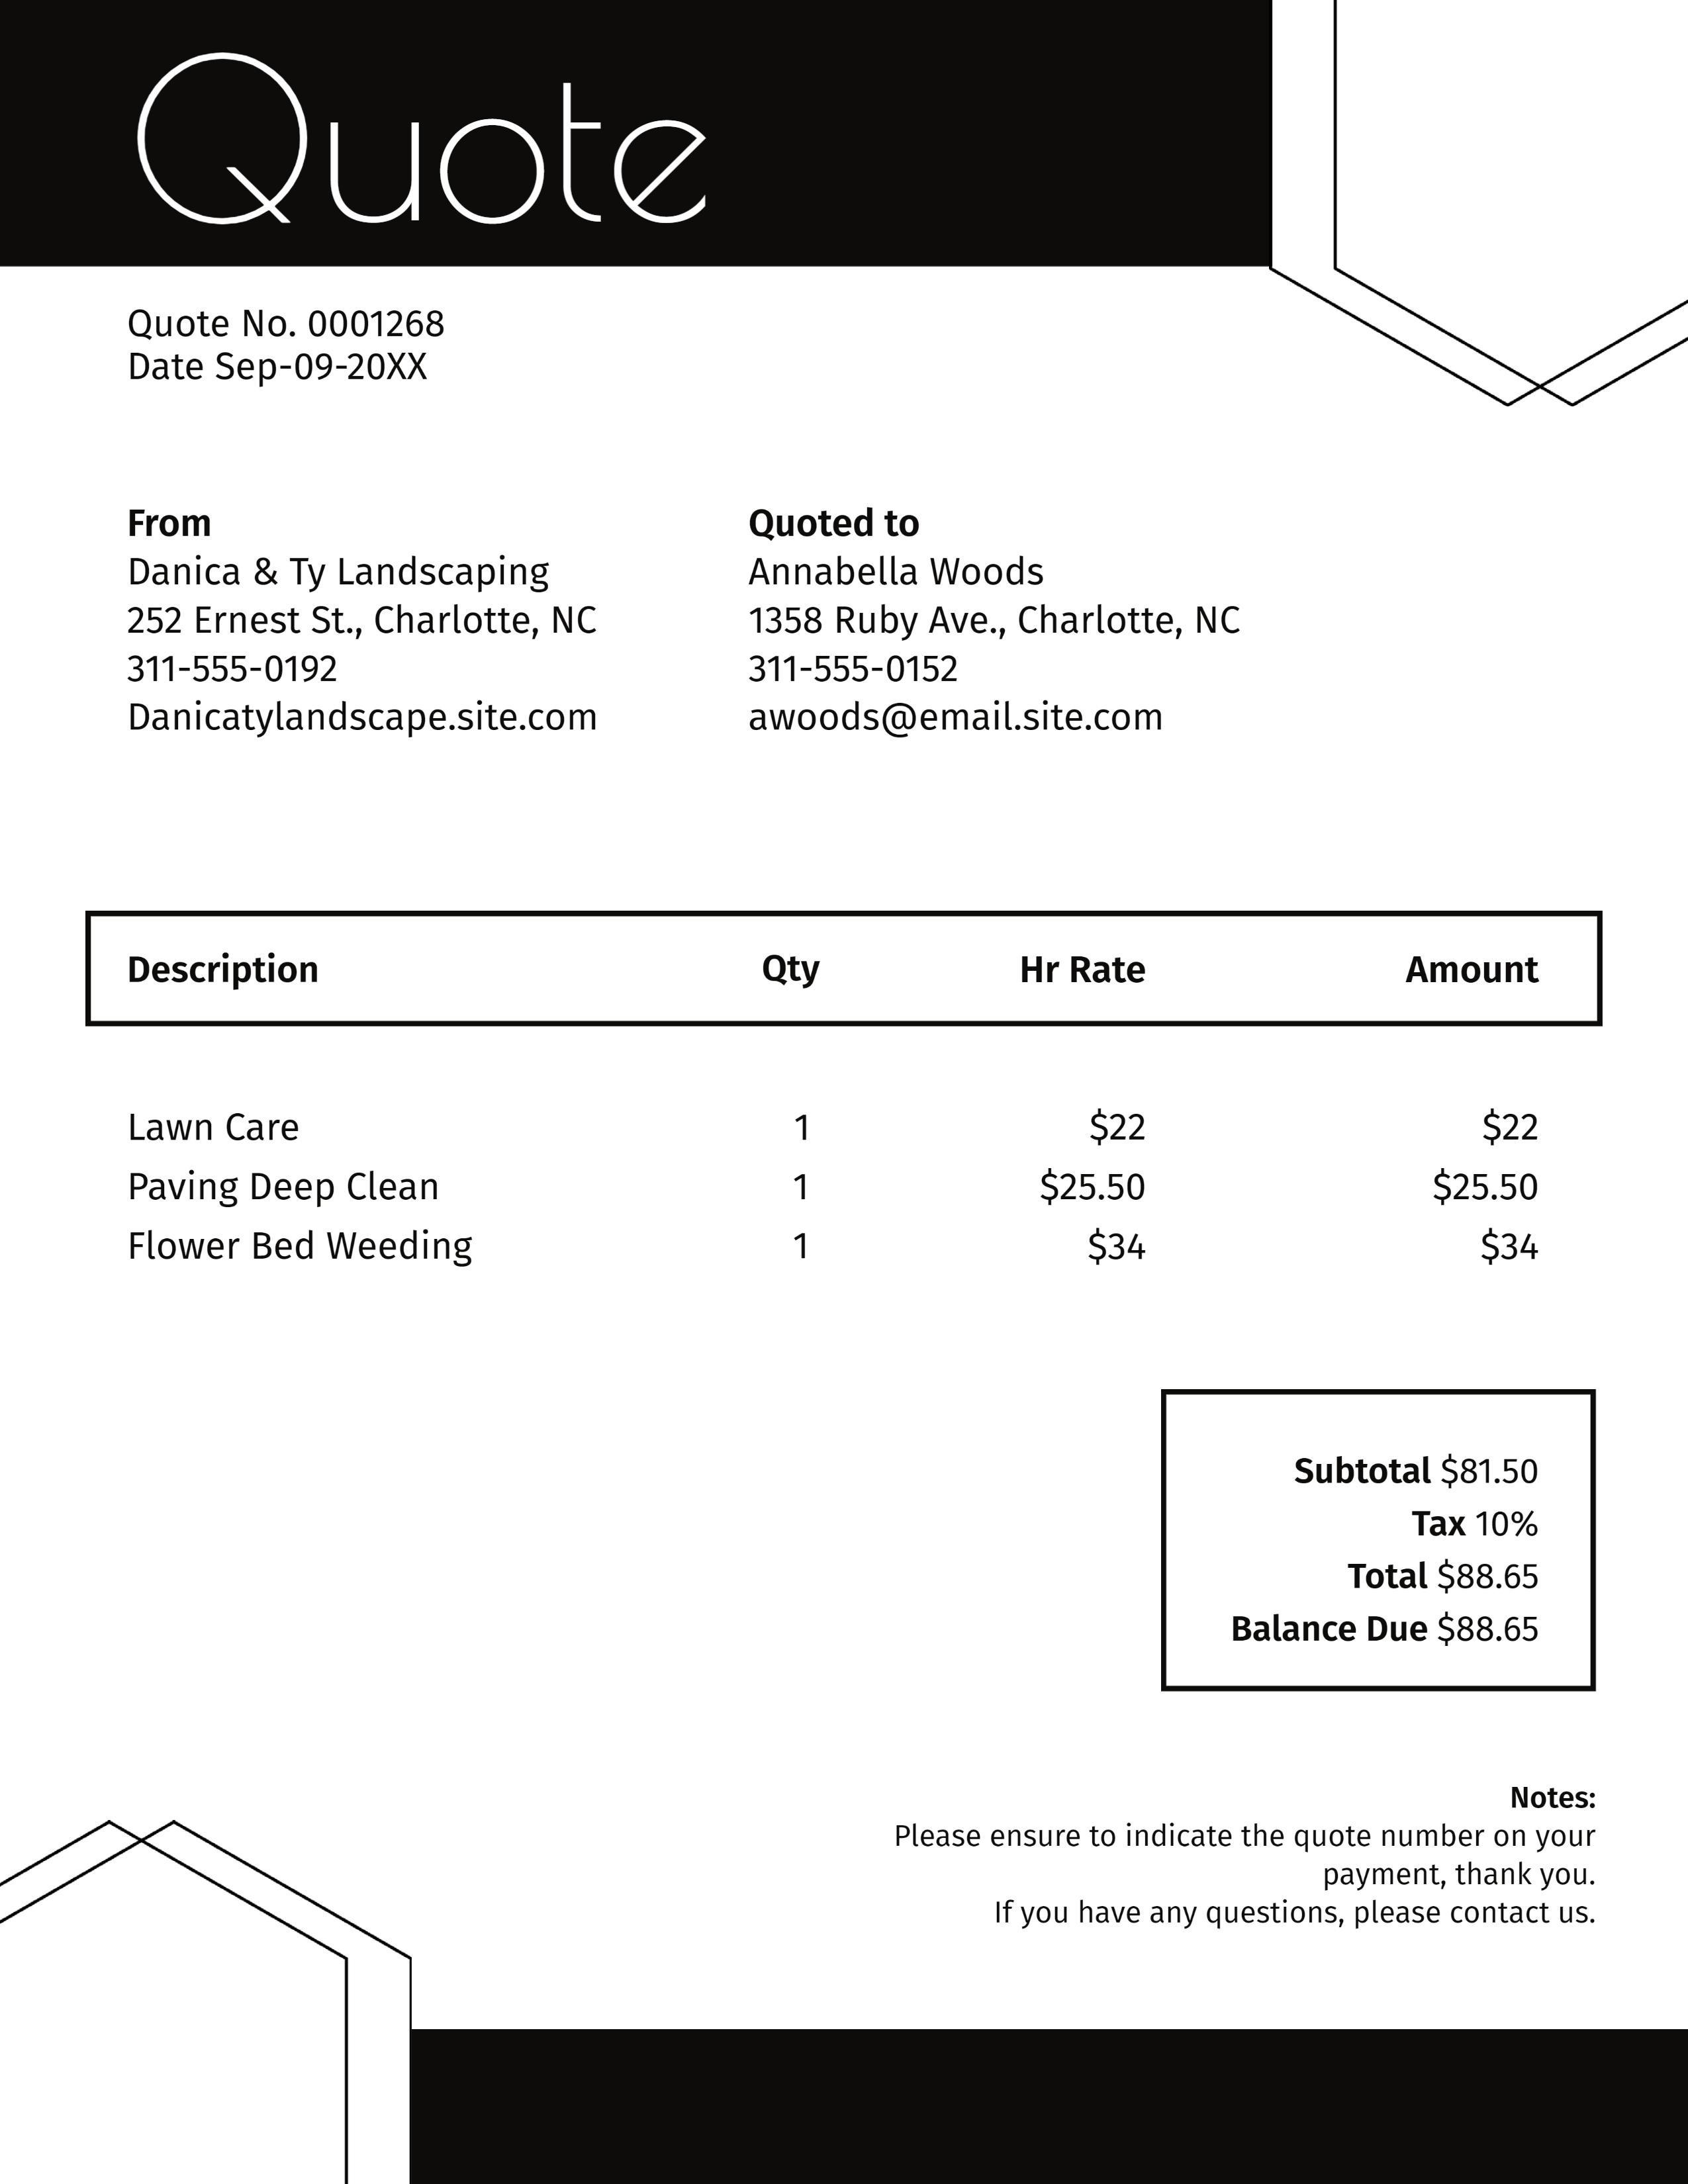ROI: (113, 948, 1557, 1289), (731, 496, 1248, 752), (117, 503, 622, 753), (887, 1776, 1617, 1943), (1216, 1436, 1559, 1663), (113, 292, 457, 404)
